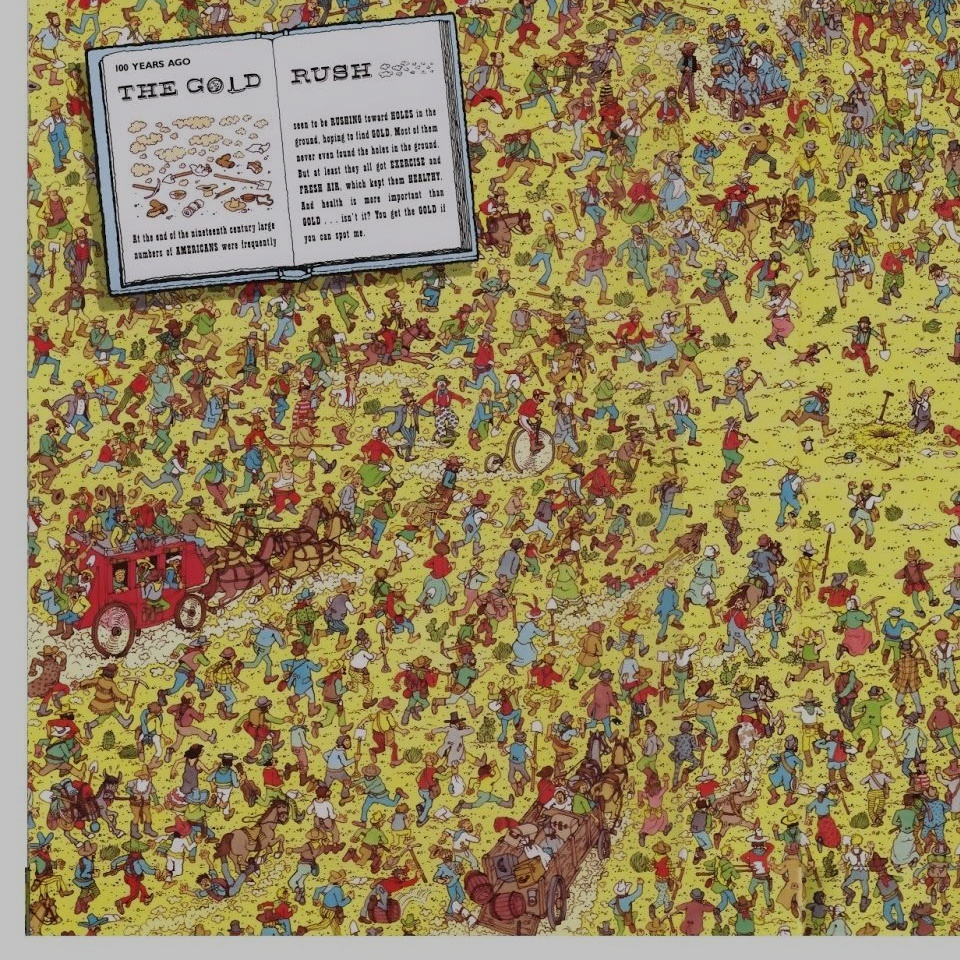waldo: (293, 382, 312, 423)
